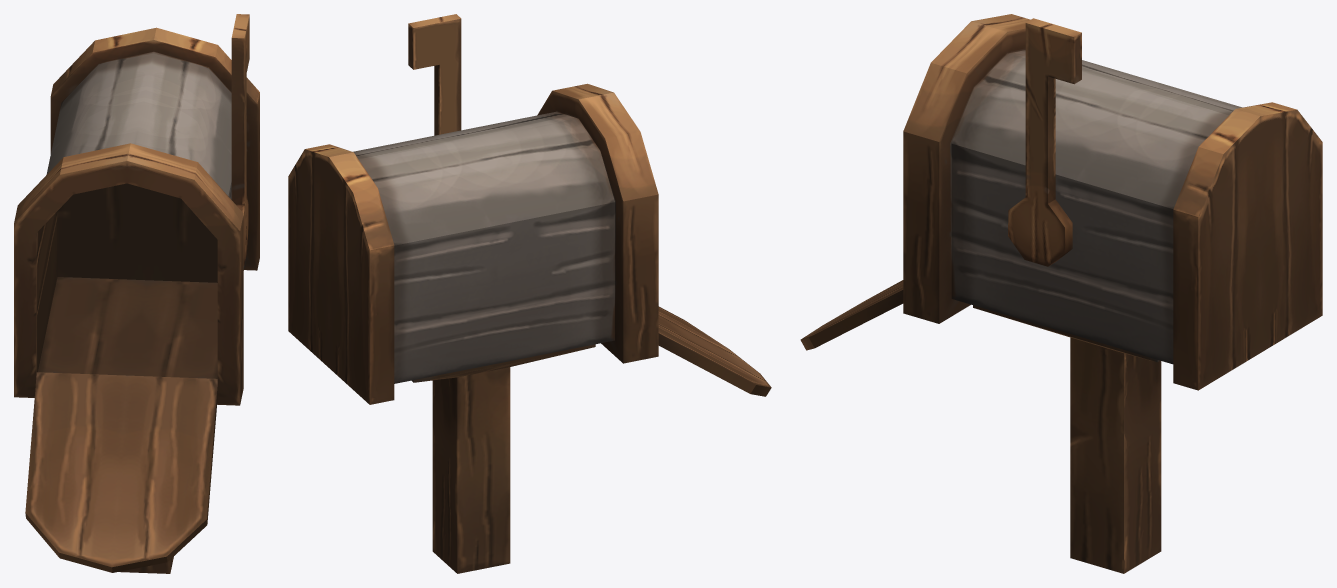
File: 89_letter box.FBX
The picture shows the model from 3 angles, left to right: view 1: azimuth 30°, elevation 25°; view 2: azimuth 150°, elevation 25°; view 3: azimuth 270°, elevation 25°; orthographic projection. The views are drawn at different scales.
Parts seen in each view (by area): view 1: Object046; view 2: Object046; view 3: Object046.
Boxes of the visible parts, <box> form: Object046: <box>14,14,259,573</box>; Object046: <box>288,14,771,573</box>; Object046: <box>800,14,1322,573</box>.
Size of the model in its own units: 47.89 by 66.79 by 56.24.
